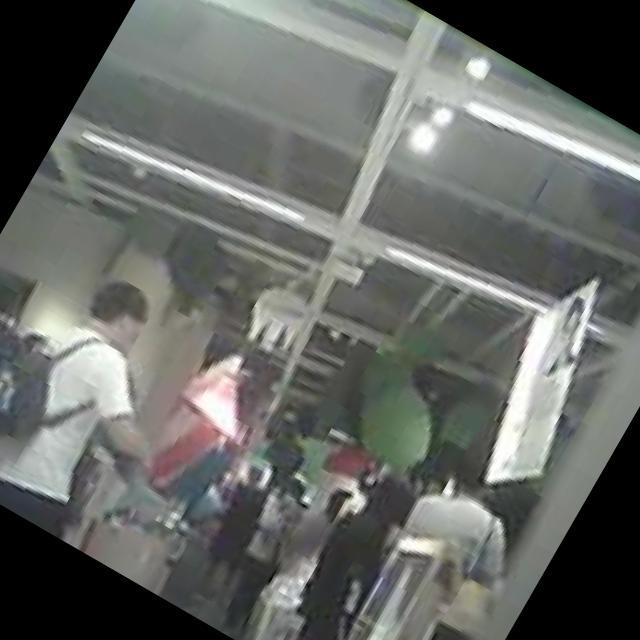person: (0, 251, 218, 557), (310, 455, 551, 640), (274, 465, 427, 640), (183, 458, 289, 592), (264, 476, 356, 602), (0, 269, 49, 468)
